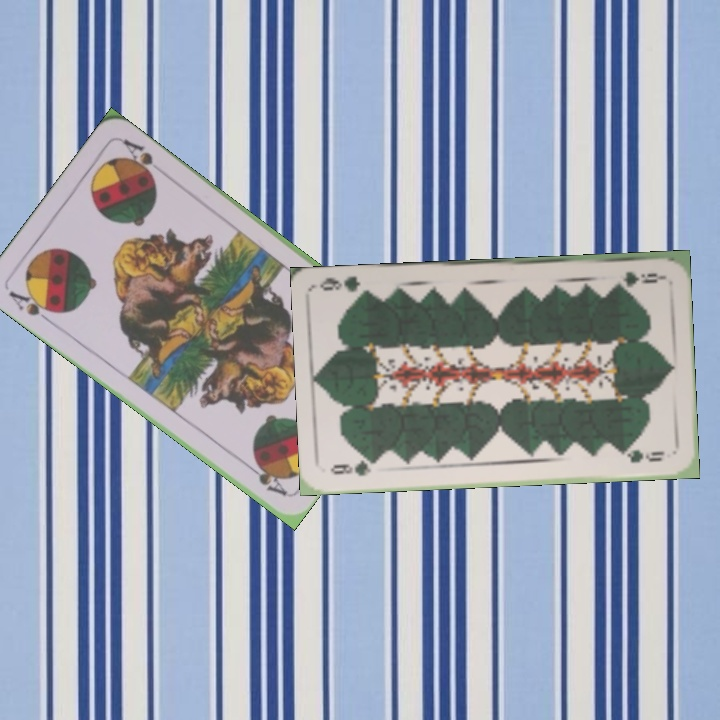G9: (327, 457, 382, 479), (610, 267, 665, 287)
SA: (4, 285, 61, 326)
